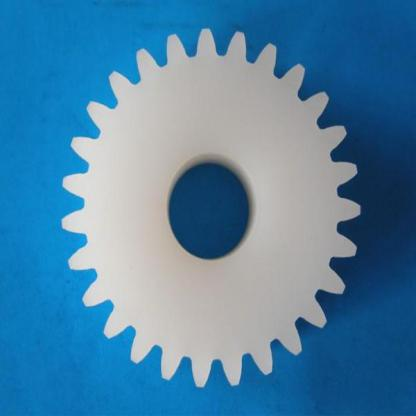FOD: (58, 24, 364, 394)
